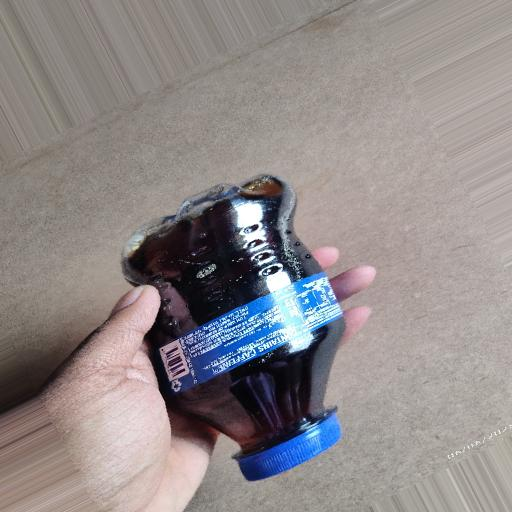Thumps Up: (80, 166, 382, 497)
